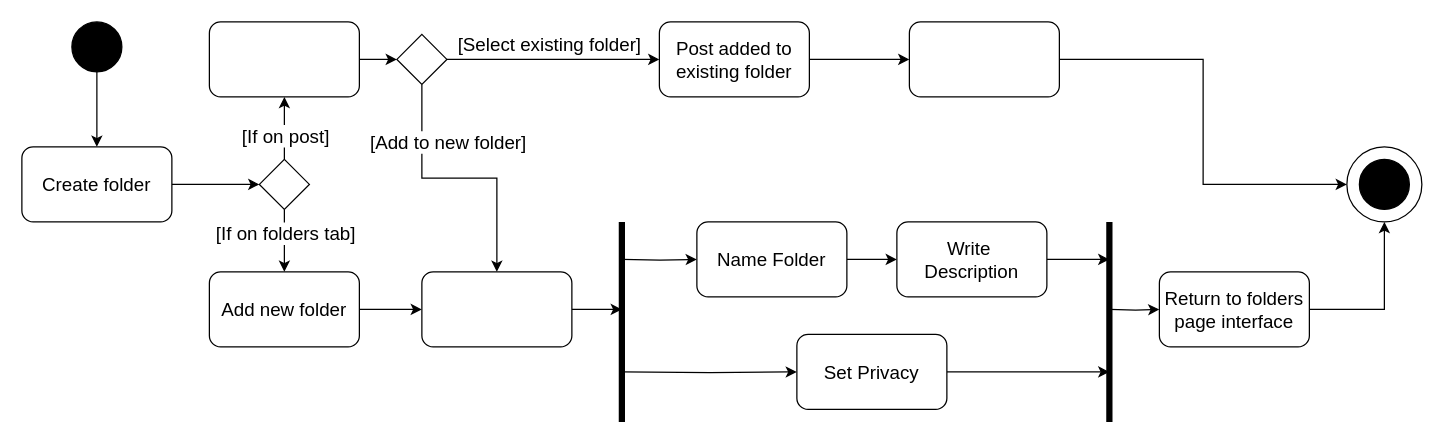
Image size: 1444x448. Some labels were removed from this diagram. Here are the shapes that lost their labels. From the top down, the centre of each, then its label:
the point at 283,59: Save Post
the point at 983,59: Return to post interface
the point at 496,309: Folder Created
